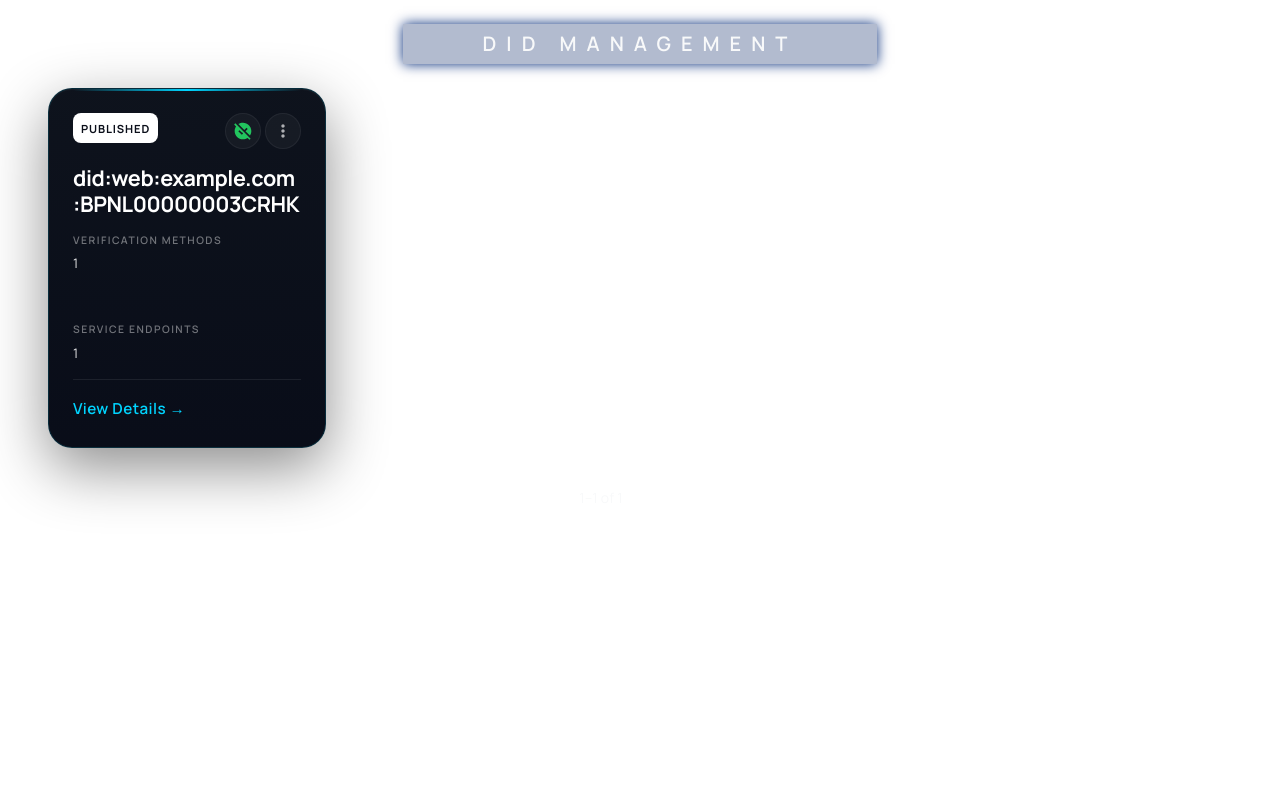
DidPage › should open add endpoint dialog when add menu item is clicked
This screenshot has width=1280, height=800.
Expected: the text "did:web:example.com:BPNL00000003CRHK" is shown, [73, 165, 301, 217]
Click the button with test id "MoreVertIcon".
click(283, 131)  # box [265, 113, 301, 149]
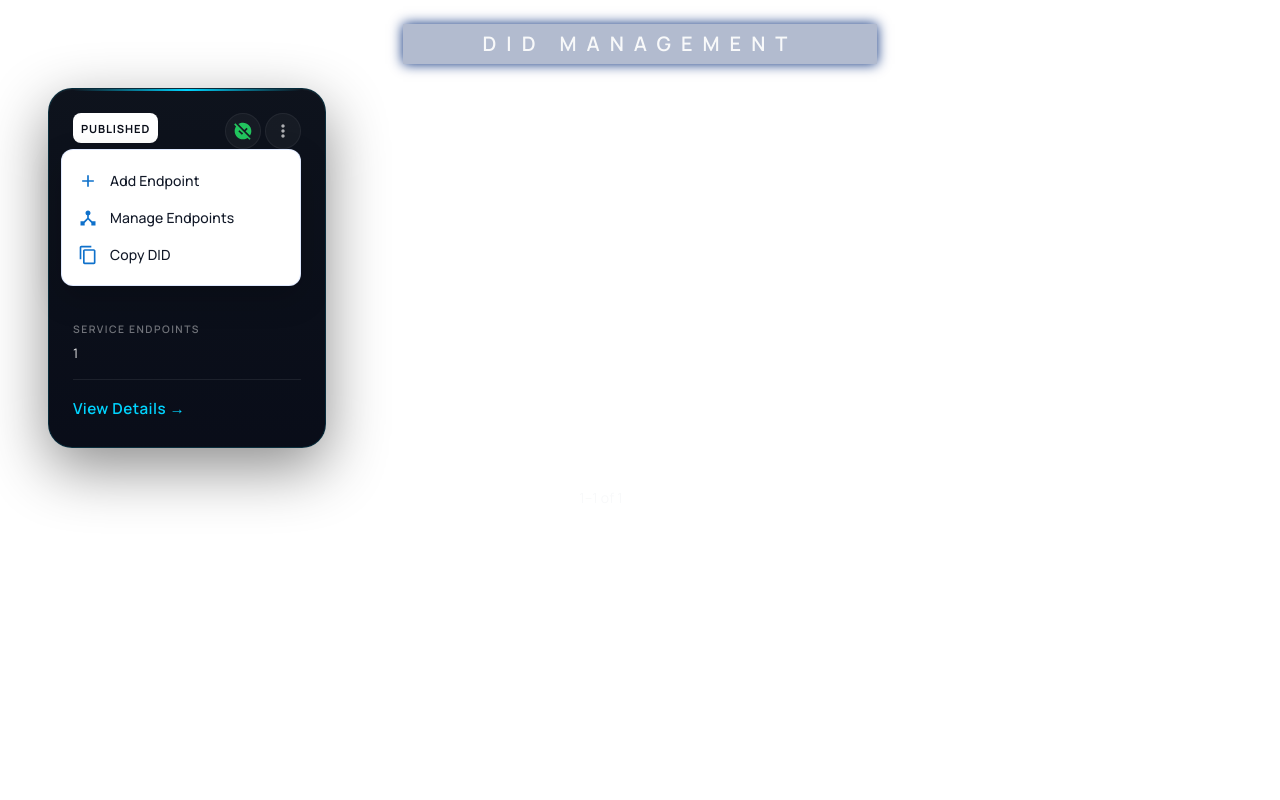
Click the text "Add Endpoint".
click(155, 180)  # box [110, 170, 200, 191]
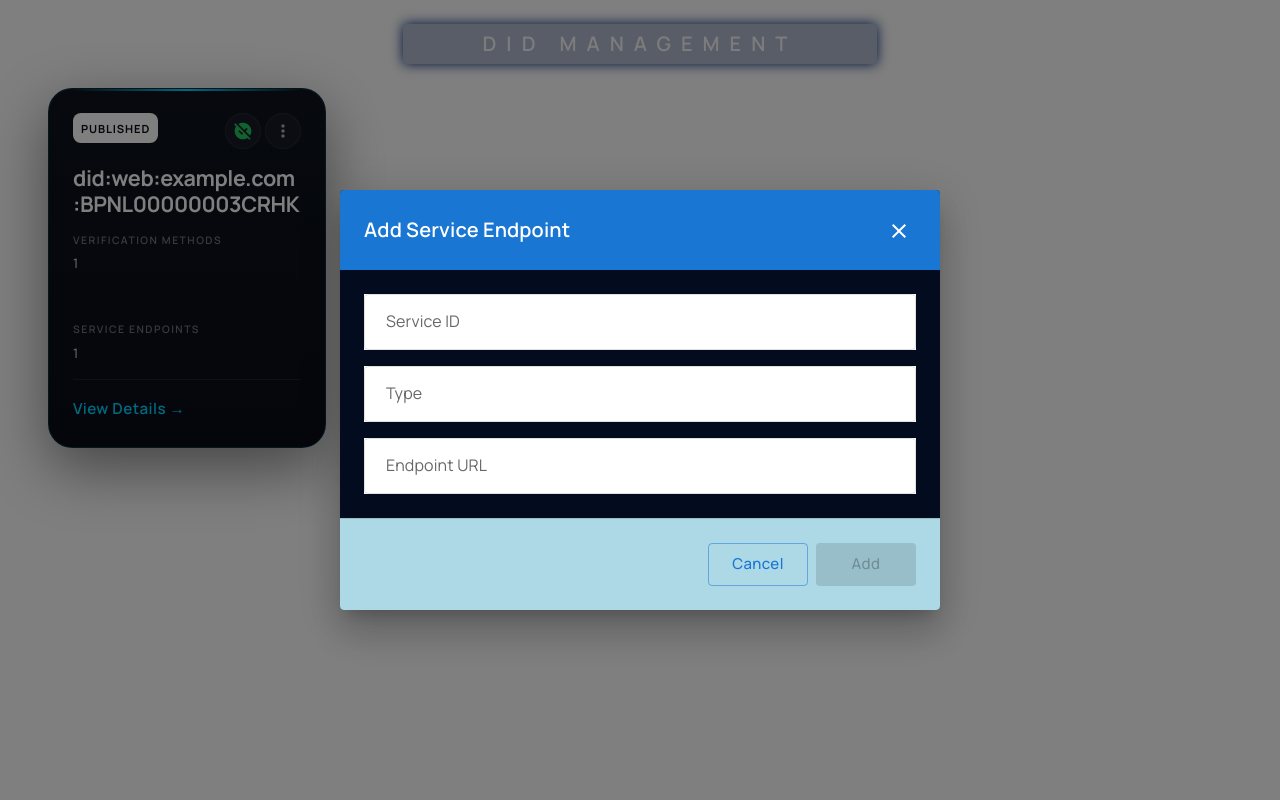
Now the heading "Add Service Endpoint" is shown, box [340, 190, 940, 270]
Now the field labelled "Service ID" is shown, box [364, 294, 916, 350]
Now the field labelled "Type" is shown, box [364, 366, 916, 422]
